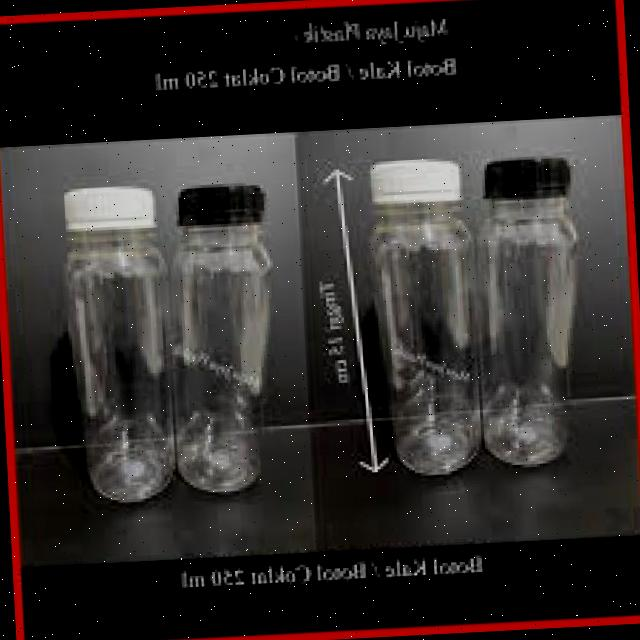bottle: (157, 169, 296, 502), (350, 157, 484, 483), (473, 128, 590, 480), (56, 180, 174, 518)
cap: (367, 158, 471, 214), (58, 184, 158, 238), (171, 181, 270, 231), (490, 154, 578, 202)
